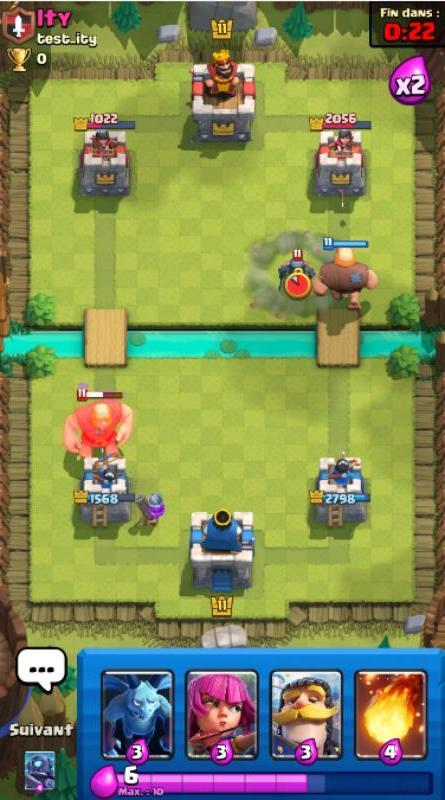enemy_giant: (57, 386, 138, 461)
enemy_mini_pekka: (274, 246, 318, 291)
player_giant: (311, 238, 381, 310)
player_musketeer: (134, 484, 170, 528)
